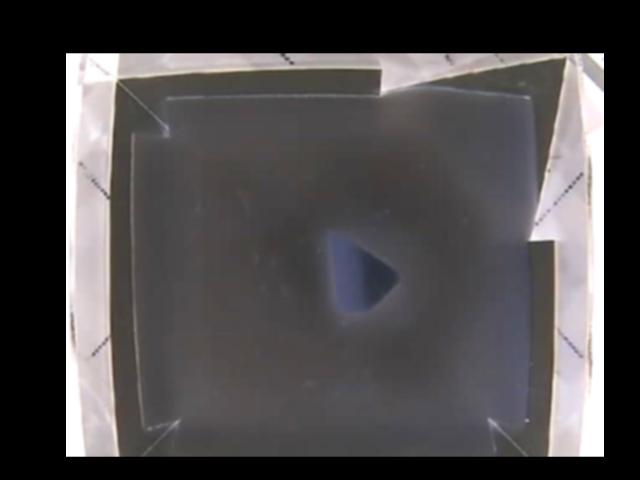Mooli: (328, 227, 400, 314)
